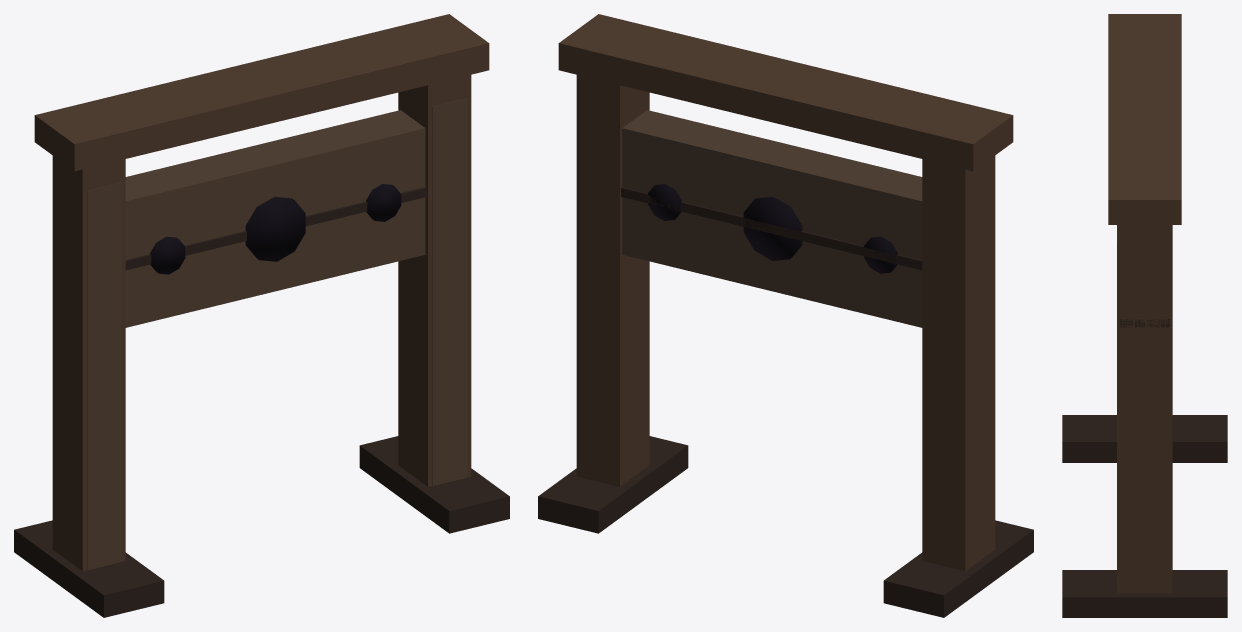
The model's file is stocks.glb.
3 views of the same model, side by side, from view 1: azimuth 30°, elevation 25°; view 2: azimuth 150°, elevation 25°; view 3: azimuth 270°, elevation 25° (orthographic). The views are drawn at different scales.
Parts seen in each view (by area): view 1: stocks; view 2: stocks; view 3: stocks.
Boxes of the visible parts, left/top/right/bottom form: stocks: left=14, top=14, right=509, bottom=617; stocks: left=538, top=14, right=1033, bottom=617; stocks: left=1062, top=14, right=1227, bottom=617.
Size of the model in its own units: 0.96 by 1.01 by 0.36.
